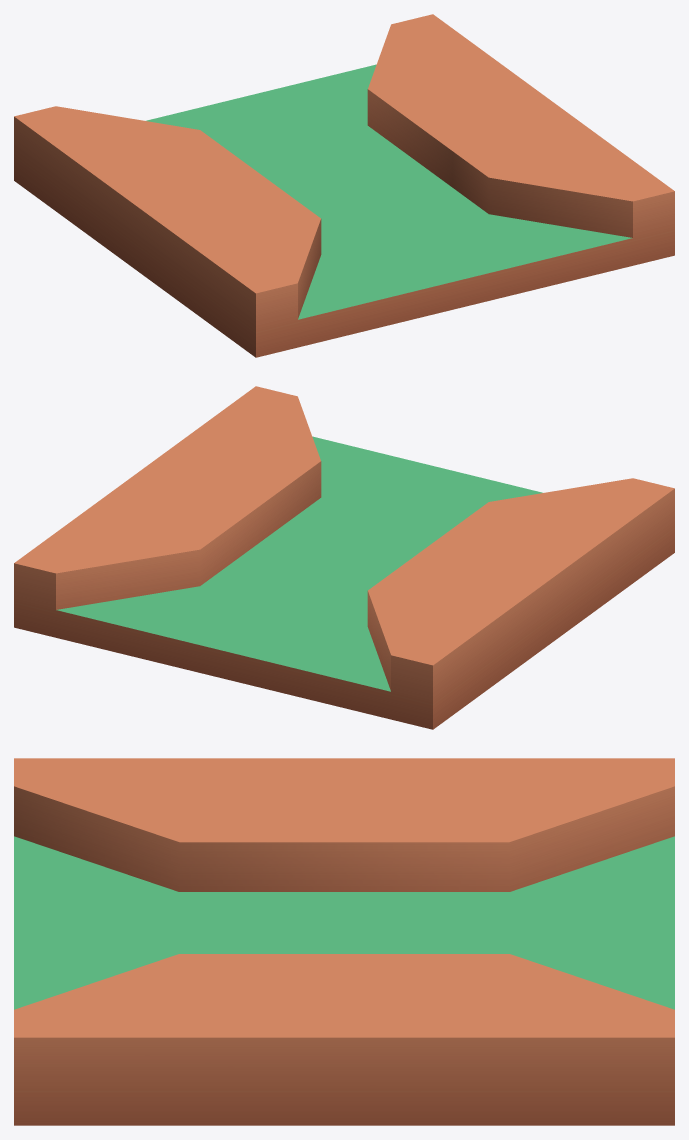
Rendered from narrow-square.glb.
3 views of the same model, one above another, from view 1: azimuth 30°, elevation 25°; view 2: azimuth 150°, elevation 25°; view 3: azimuth 270°, elevation 25° (orthographic). The views are drawn at different scales.
Parts seen in each view (by area): view 1: narrow-square; view 2: narrow-square; view 3: narrow-square.
Part boxes in pixels (x1,y1,x2,y2): narrow-square: (14,14,674,357); narrow-square: (14,386,674,729); narrow-square: (14,758,674,1125).
Bounding box in the file's own units: 0.9999 × 0.1467 × 0.9999.
1 material, 1 textured.
